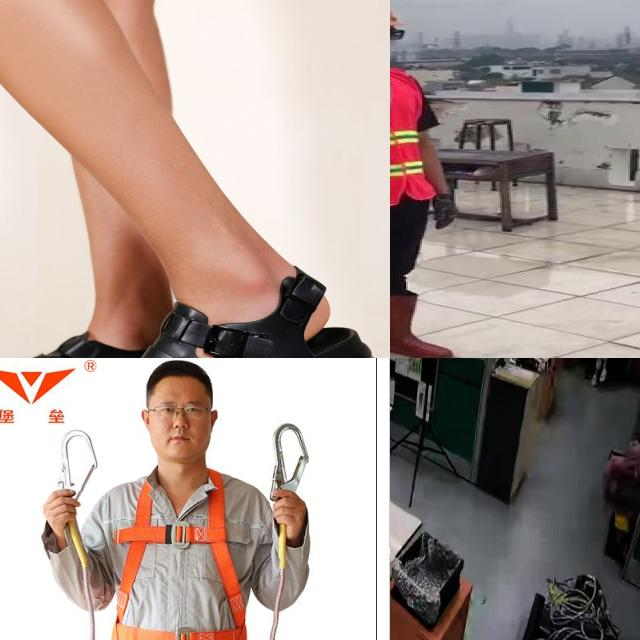Harness: (102, 469, 249, 640)
Sandals: (48, 262, 387, 358)
boots: (390, 290, 468, 358)
person: (390, 0, 461, 358), (586, 358, 640, 388)
shoes: (598, 366, 608, 384), (589, 372, 598, 388)
vest: (390, 69, 436, 209)
